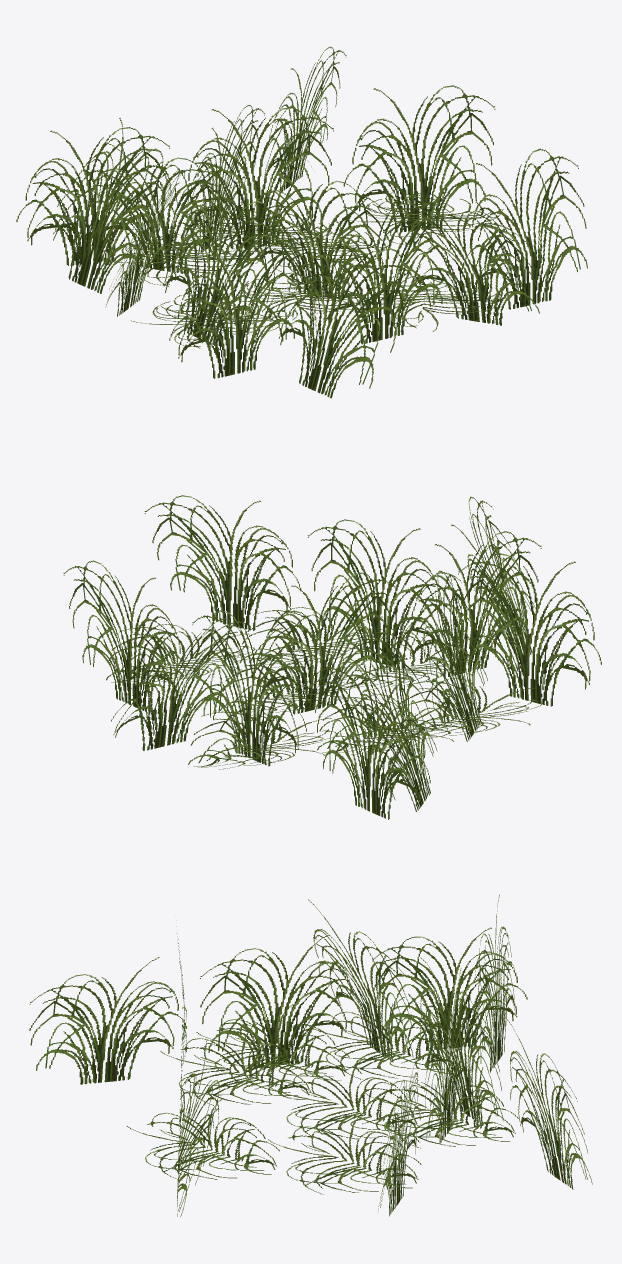
The model's file is group_grs01.glb.
3 views of the same model, one above another, from view 1: azimuth 30°, elevation 25°; view 2: azimuth 150°, elevation 25°; view 3: azimuth 270°, elevation 25° (orthographic). The views are drawn at different scales.
Visible parts, largest first — view 1: group_grs01; view 2: group_grs01; view 3: group_grs01.
Part boxes in pixels (bbox=[...]): group_grs01: bbox=[16, 46, 587, 398]; group_grs01: bbox=[63, 495, 601, 819]; group_grs01: bbox=[29, 894, 592, 1217].
Bounding box in the file's own units: 4.08 × 1.34 × 4.55.
1 material, 1 textured.
